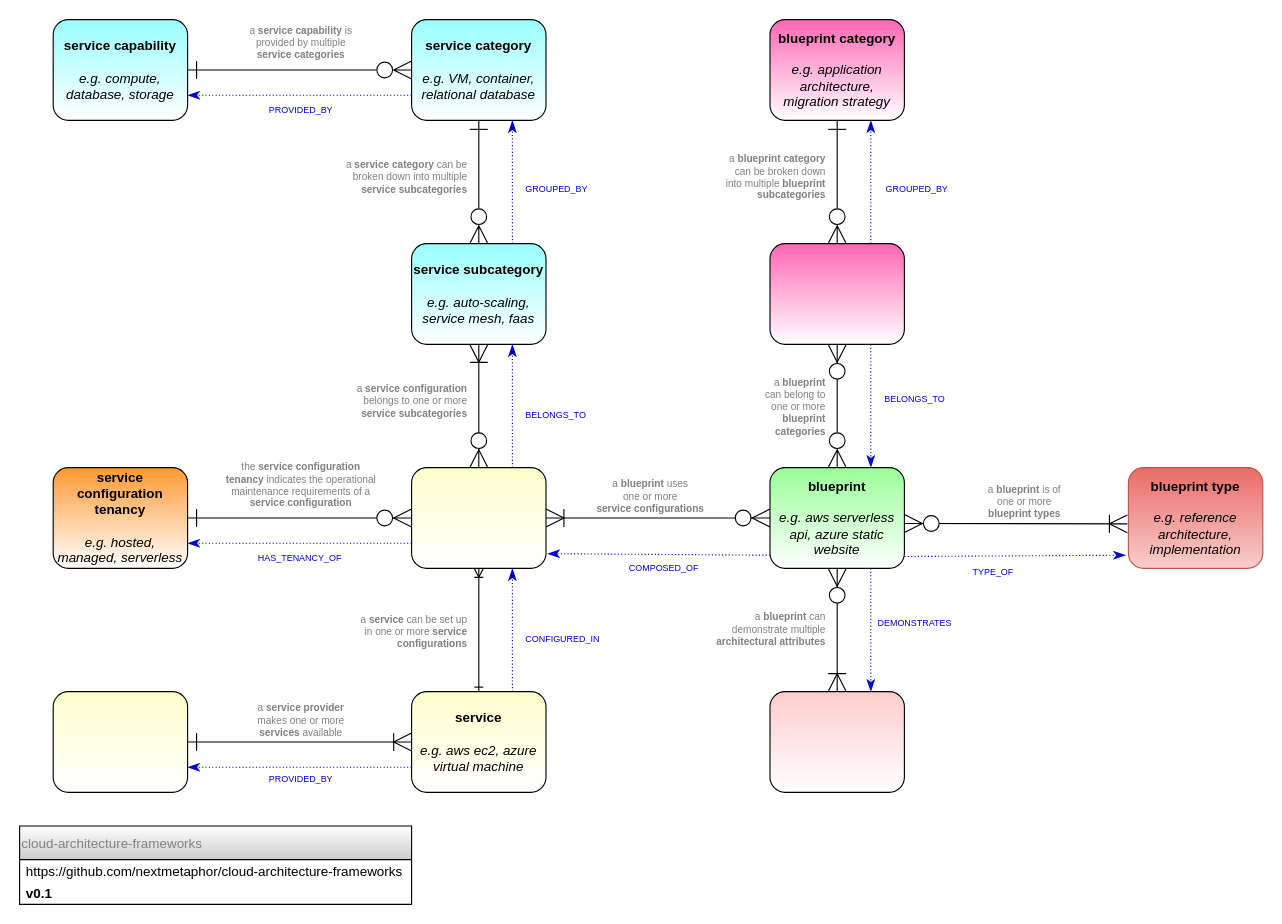
This 1282x924 diagram has some shape labels left out. The shapes that lost their labels are listed below. From the top down, each one's box as (x1, y1, x2, y2) in pixels, then its label:
(769, 242, 904, 344): blueprint subcategory e.g. on-premise, hybrid, public-cloud
(410, 466, 546, 568): service configuration e.g. aws ec2 dedicated host
(52, 690, 188, 792): service provider e.g. aws, azure, gcp
(769, 690, 904, 792): architectural attribute e.g. agility, efficiency, elasticity
